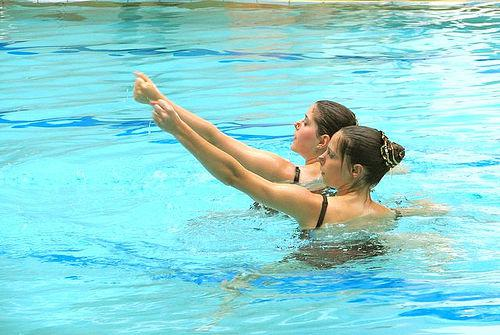swimmer: (150, 99, 418, 234), (130, 62, 356, 196)
